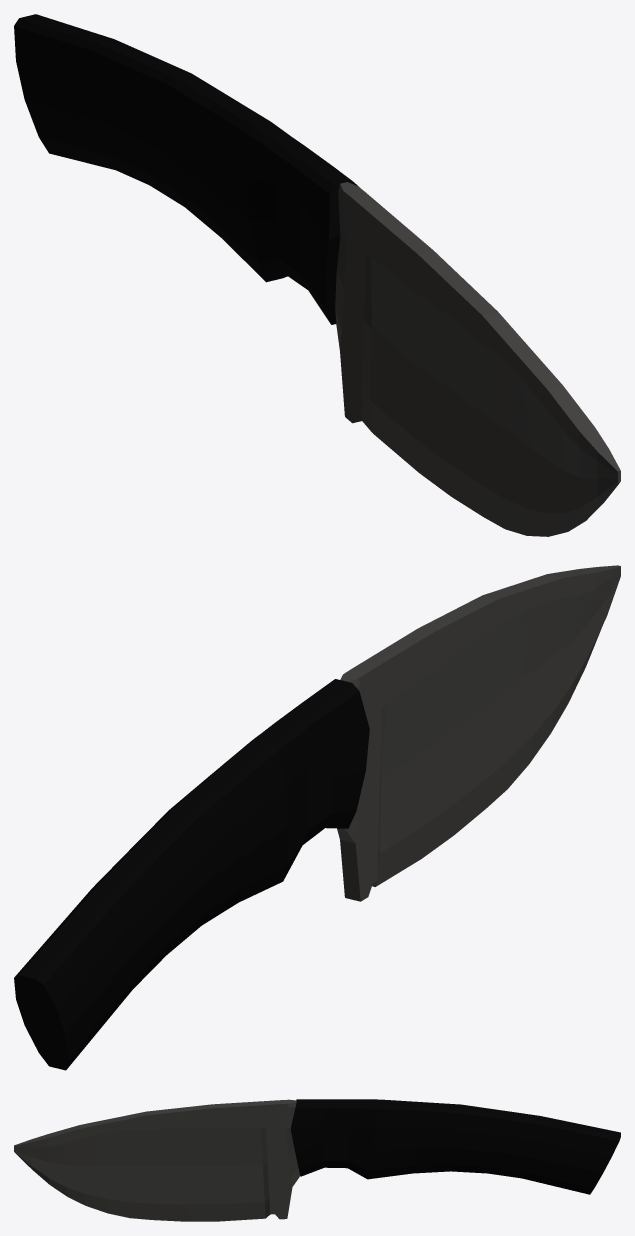
The model's file is Survival Knife.fbx.
3 renders of one model, top to bottom at view 1: azimuth 30°, elevation 25°; view 2: azimuth 150°, elevation 25°; view 3: azimuth 270°, elevation 25°, orthographic. The views are drawn at different scales.
Visible parts, largest first — view 1: Survival Knife; view 2: Survival Knife; view 3: Survival Knife.
Part boxes in pixels (x1=…): Survival Knife: x1=14, y1=14, x2=620, y2=536; Survival Knife: x1=14, y1=565, x2=620, y2=1070; Survival Knife: x1=14, y1=1099, x2=620, y2=1221.
Bounding box in the file's own units: 0.0117 × 0.0642 × 0.2941.
